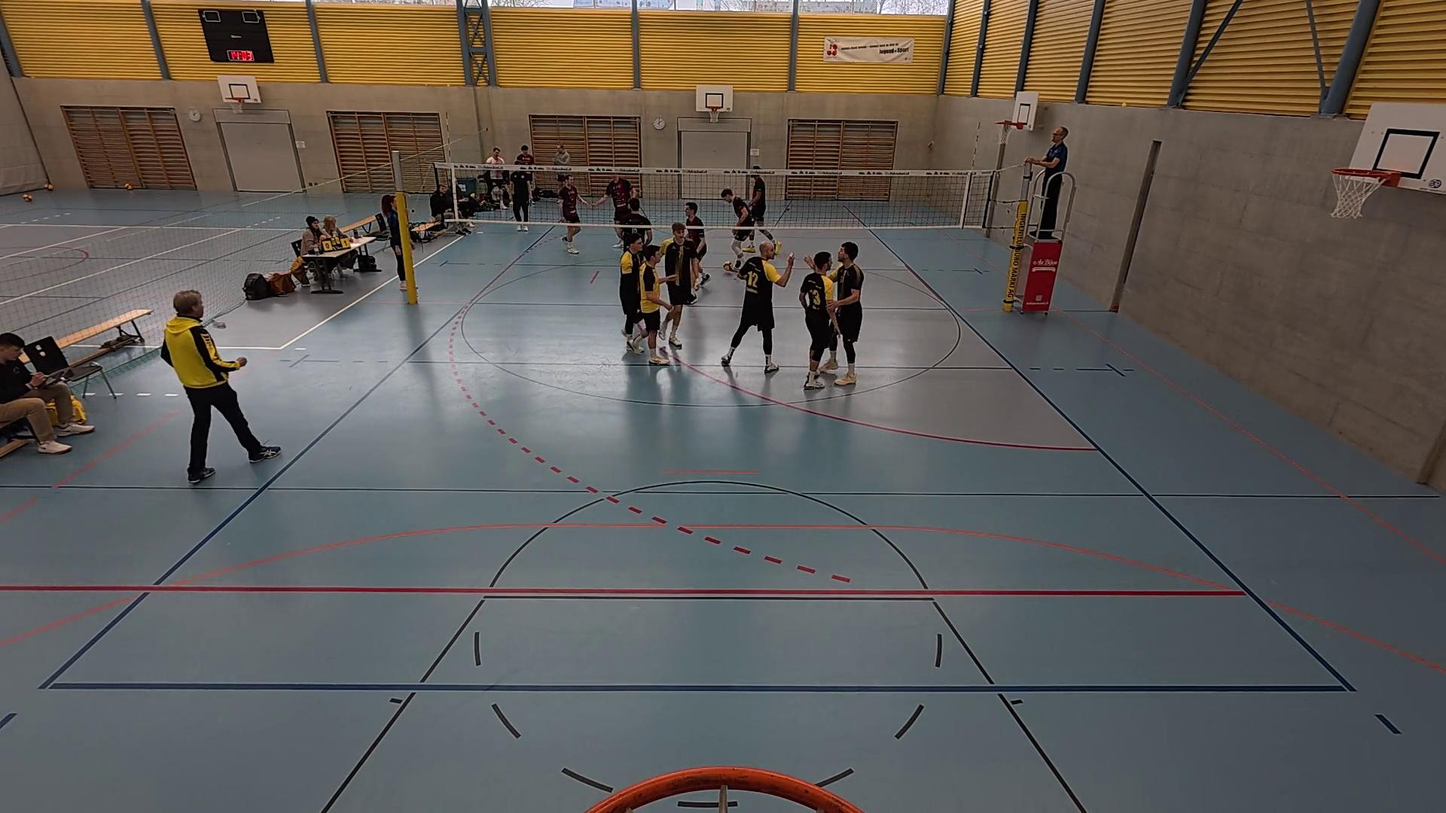Player: (718, 244, 796, 376), (625, 241, 681, 368), (656, 224, 703, 352), (800, 251, 841, 388), (825, 242, 862, 387), (617, 232, 658, 354), (740, 163, 785, 257), (718, 186, 755, 273), (612, 190, 654, 262), (684, 201, 713, 296), (557, 175, 584, 256), (602, 172, 629, 234)
